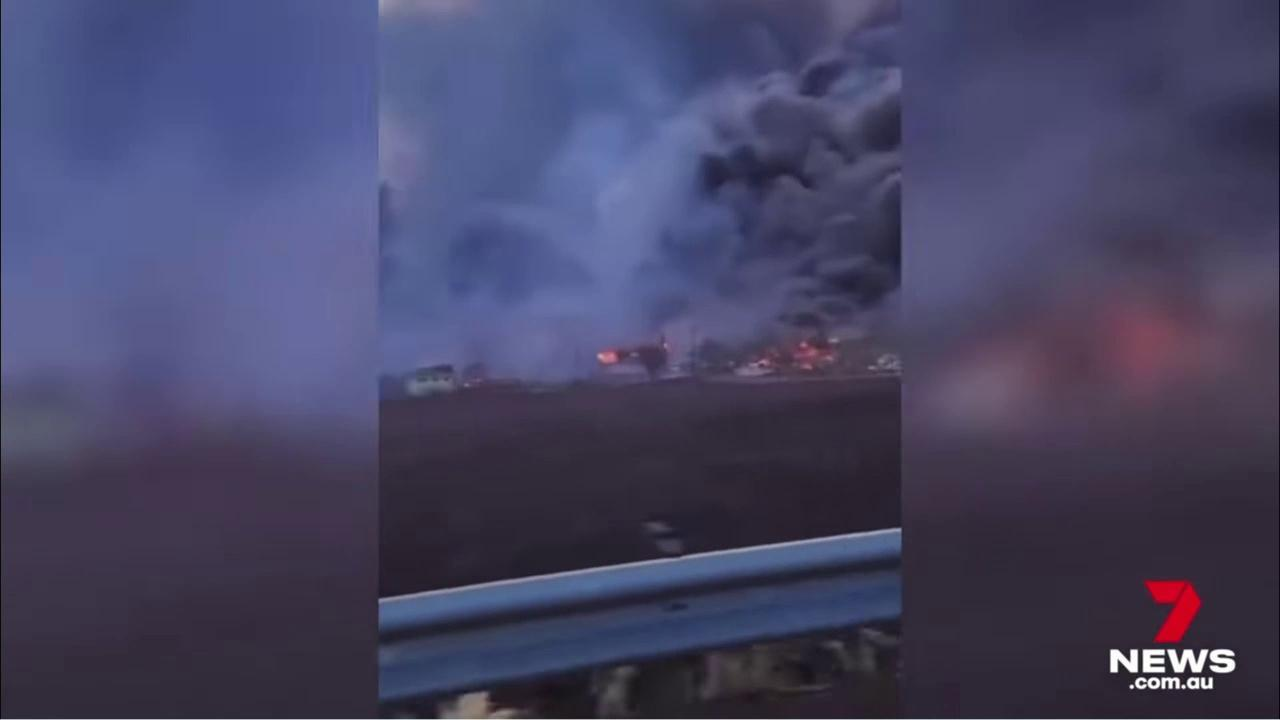fire: (790, 336, 839, 375), (591, 347, 622, 365)
smoke: (380, 0, 901, 387)
